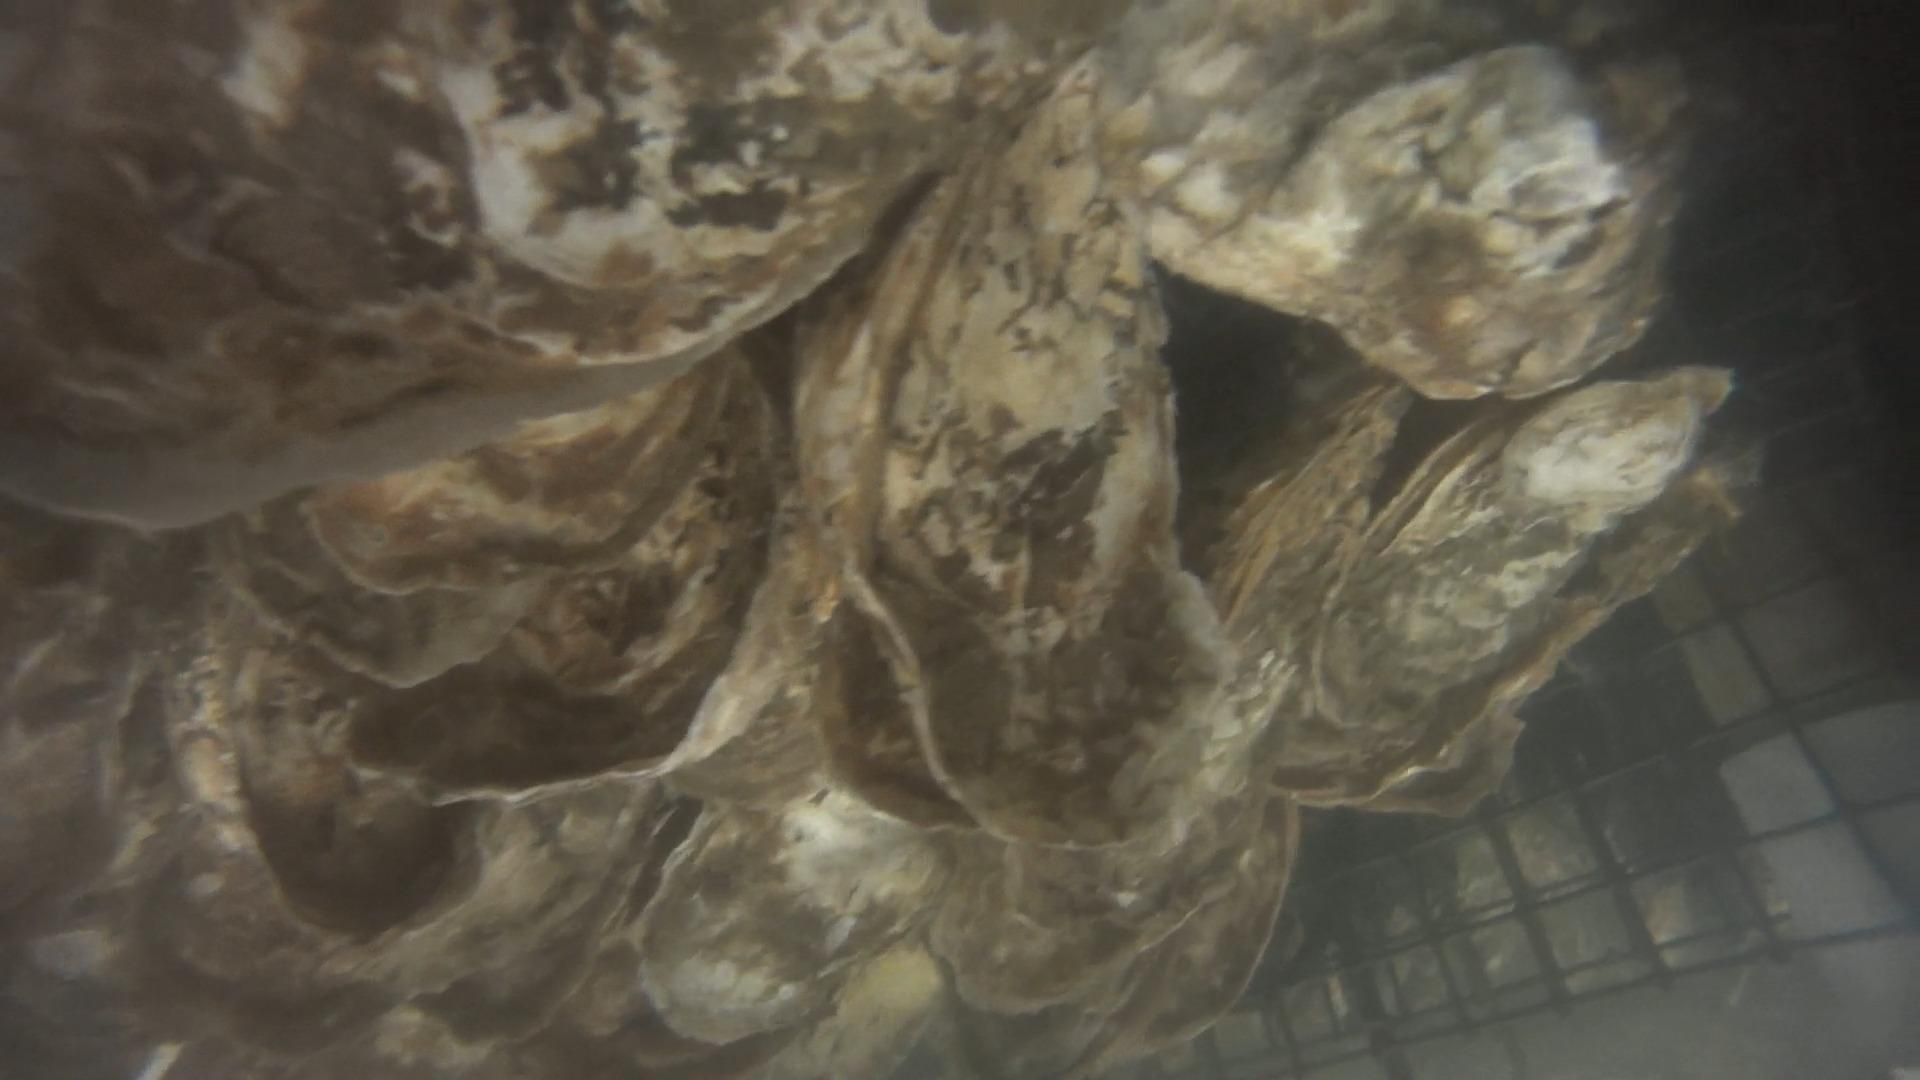3: (795, 74, 1232, 848), (1308, 367, 1733, 727), (624, 789, 949, 1044)
Oyster-Closed: (349, 495, 831, 799), (1212, 382, 1415, 622)
Oyster-Open: (0, 0, 1106, 525), (1100, 1, 1687, 397), (305, 351, 738, 593), (520, 443, 771, 709), (233, 669, 471, 939), (235, 505, 539, 687)
